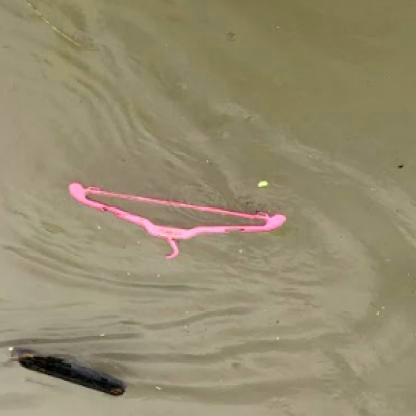Trash: (64, 176, 291, 264)
